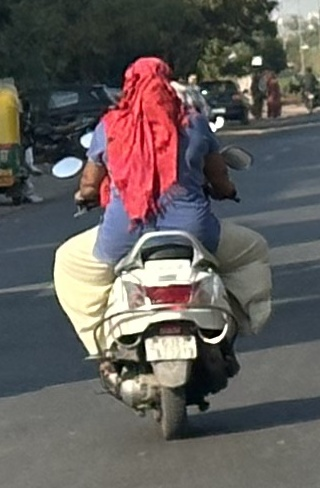BikeWithRider: (46, 52, 280, 447)
NoHelmet: (120, 52, 179, 107)
